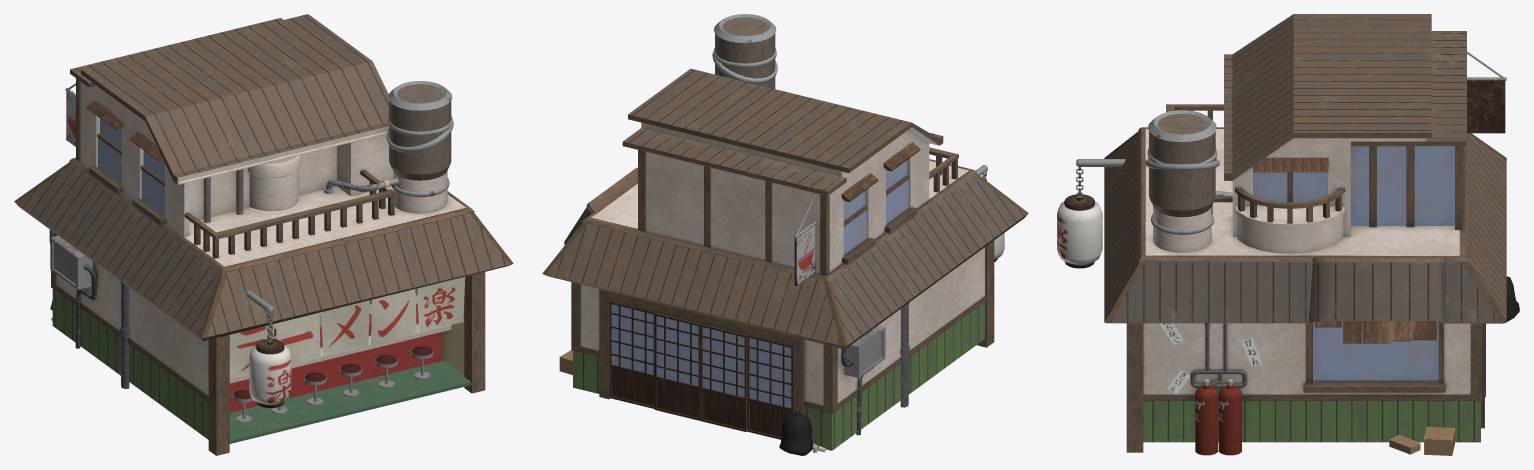
File: Story04_구일초등학교.fbx
3 views of the same model, side by side, from view 1: azimuth 30°, elevation 25°; view 2: azimuth 150°, elevation 25°; view 3: azimuth 270°, elevation 25° (orthographic). The views are drawn at different scales.
Visible parts, largest first — view 1: Story04_구일초등학교; view 2: Story04_구일초등학교; view 3: Story04_구일초등학교.
Part boxes in pixels (x1,y1,x2,y2): Story04_구일초등학교: [14, 14, 513, 455]; Story04_구일초등학교: [542, 14, 1028, 455]; Story04_구일초등학교: [1057, 14, 1519, 455].
Size of the model in its own units: 4903 by 4198 by 5687.
3 materials, 3 textured.
